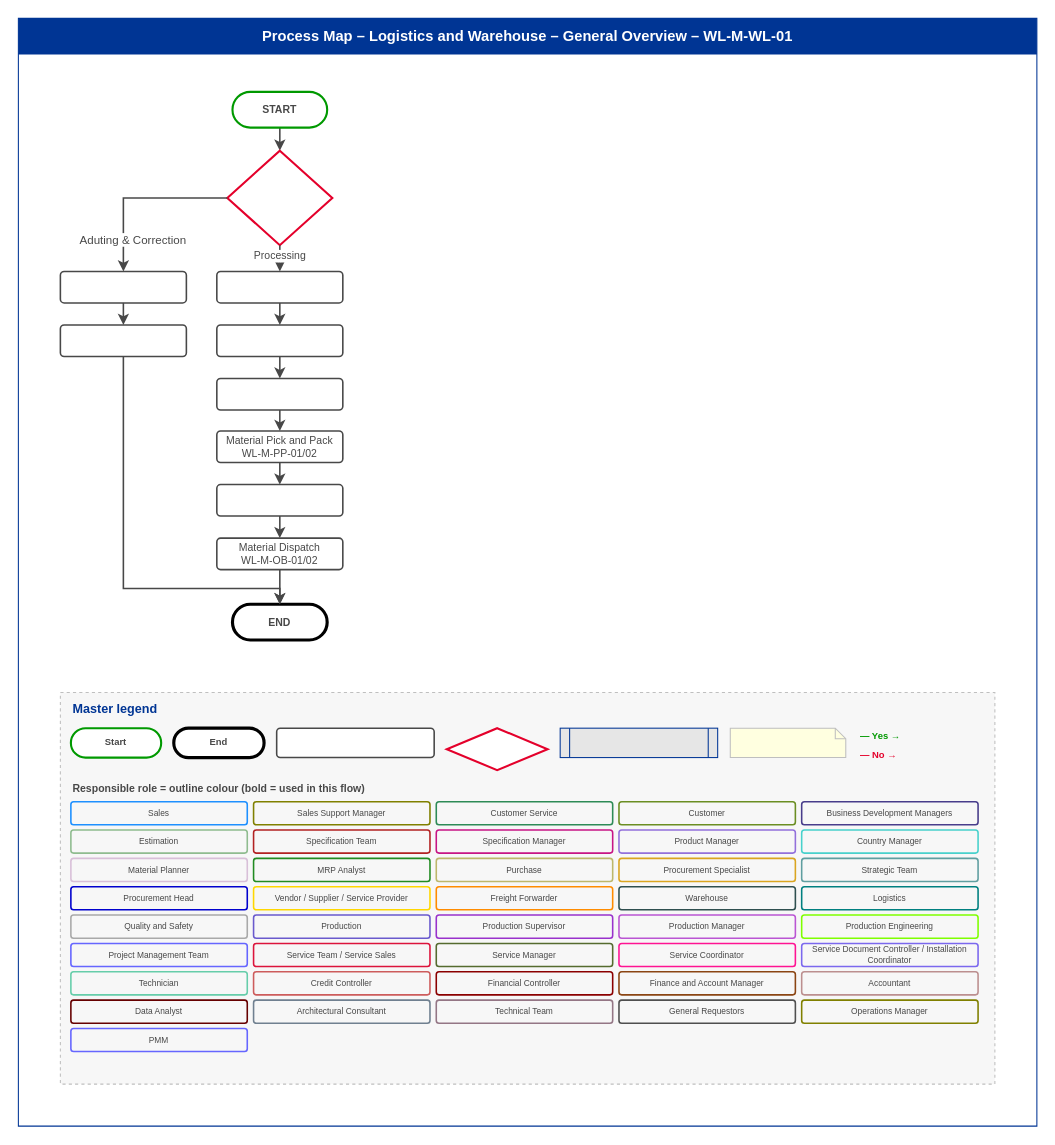
Image size: 1055x1145. Some labels were removed from this diagram. The shapes that lost their labels are listed below. From the top down, each one's centre as x and y in pixels, then its label:
At (279,197): "Stock".
At (123,286): "Inventory Audit WL-M-IA-01/02".
At (279,286): "Material Inbound WL-M-IB-01".
At (123,340): "Stock Correction WL-S-SC-01".
At (279,340): "FRAGILE HANDLING WL-S-FH-01".
At (279,393): "QA& QC WL-S-QC-01/02".
At (279,499): "Shipping Documentation WL-M-SP-01".
At (354,742): "Activity (outline = role)".
At (496,749): "Decision".
At (638,742): "Linked process (Ref ID)".
At (787,742): "Note / checklist".
